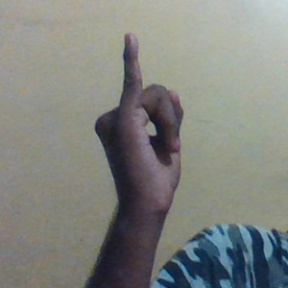I: (97, 32, 187, 203)
